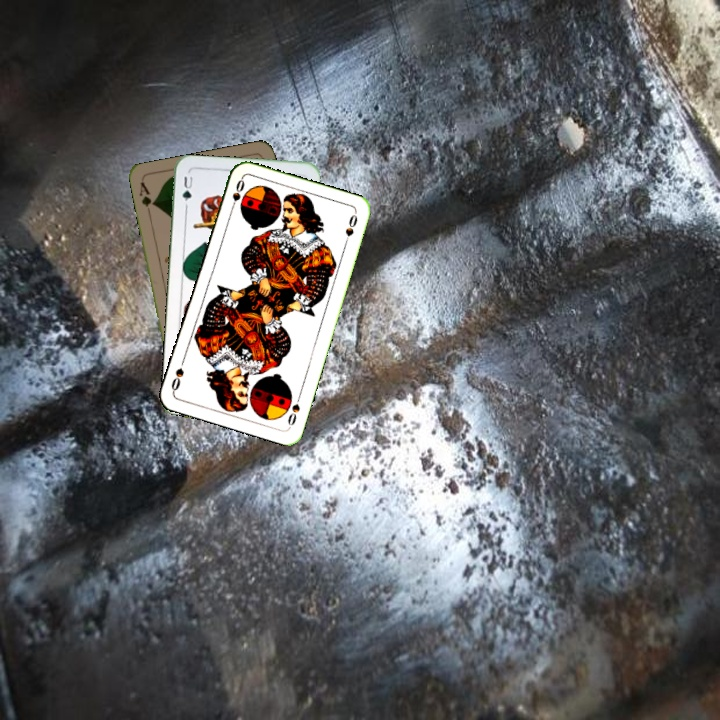GA: (135, 178, 157, 218)
GU: (178, 172, 195, 210)
SO: (226, 175, 247, 214), (284, 390, 304, 430)
